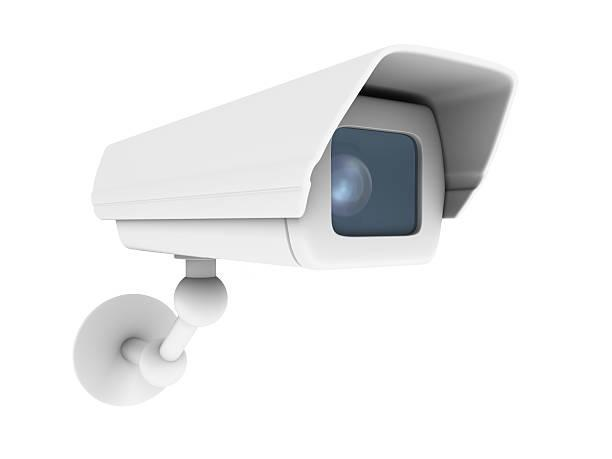camera: (44, 30, 539, 410)
